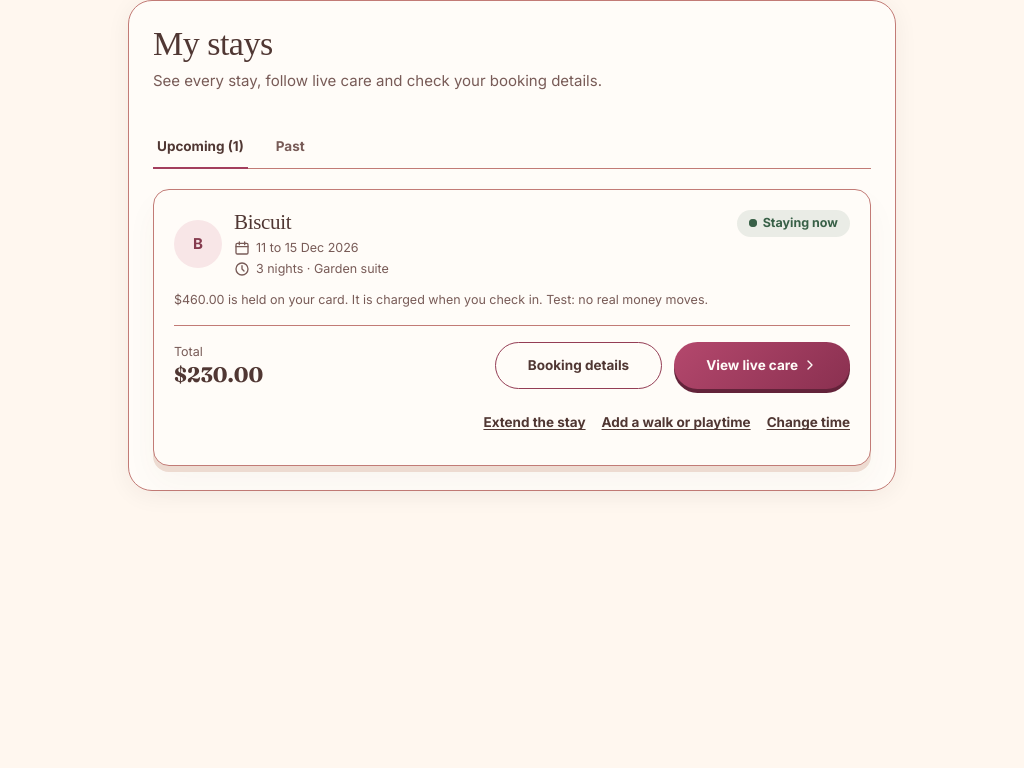
Test case: changes while the pet is staying › loads the add-ons, names the service and total on the button, and books at that price
This screenshot has width=1024, height=768.
Step 1. Click the button "Add a walk or playtime" → [676, 423], box [602, 401, 751, 445]
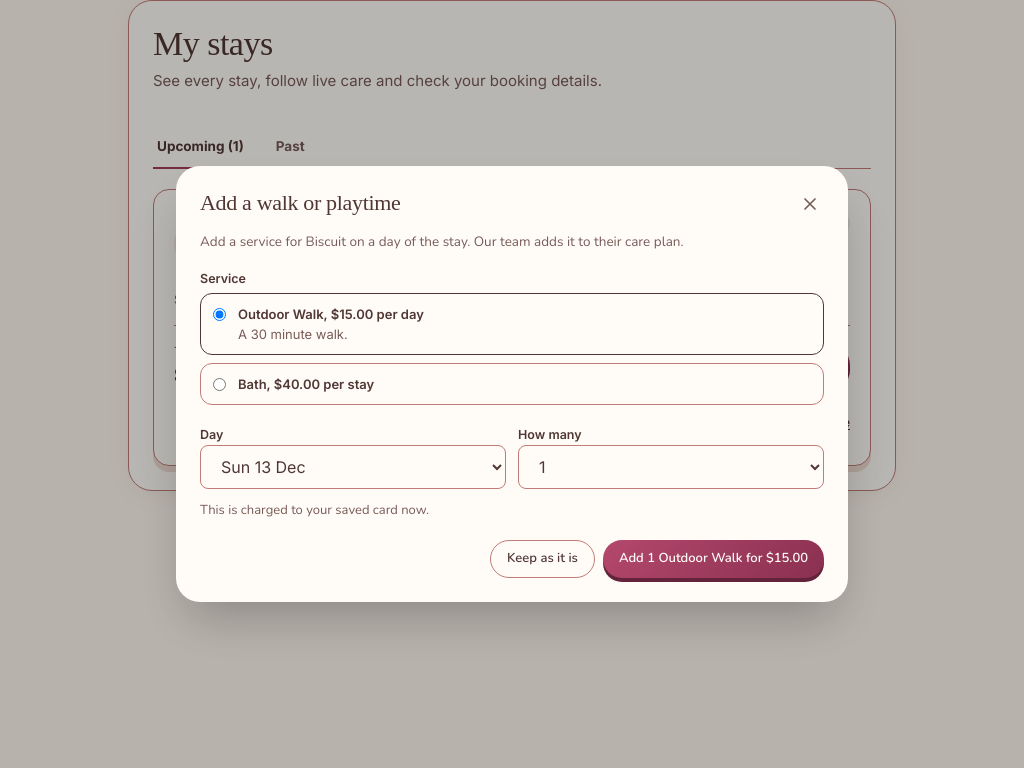
Expected: the radio button labelled "Outdoor Walk, $15.00 per day A 30 minute walk." is checked, [213, 308, 226, 321]
Step 2. Select "Mon 14 Dec" in the dropdown labelled "Day" → [353, 467], box [200, 445, 506, 489]
Step 3. Select "2" in the dropdown labelled "How many" → [671, 467], box [518, 445, 824, 489]
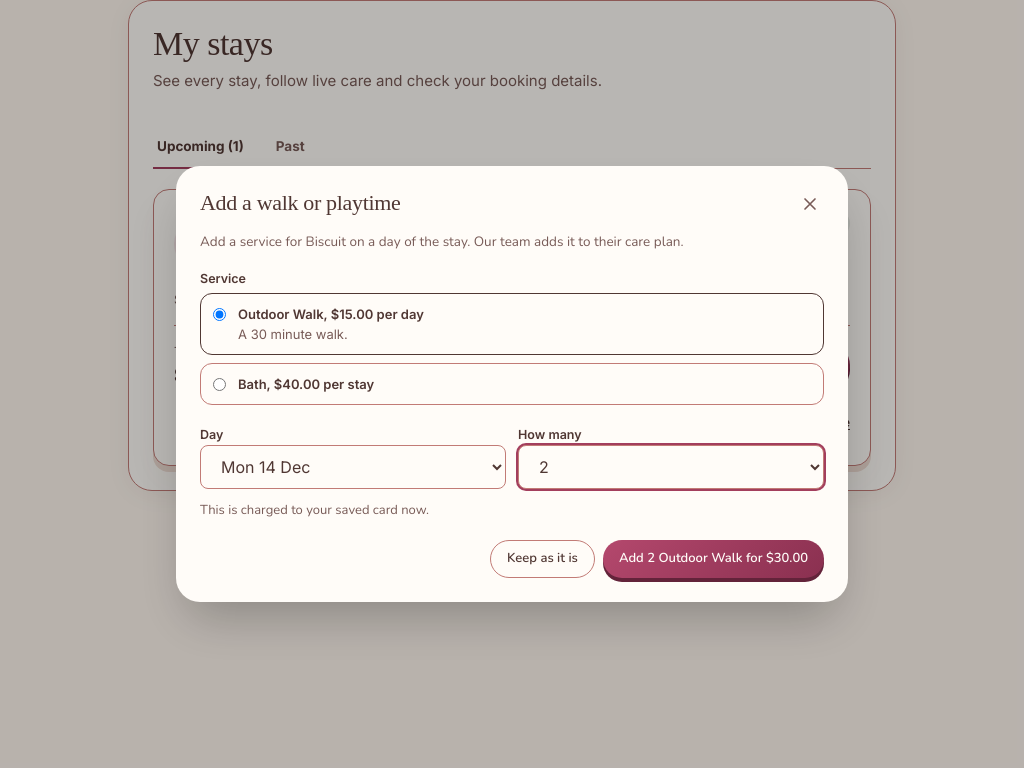
Expected: the dialog "Add a walk or playtime" shows "This is charged to your saved card now.", [200, 501, 429, 519]
A service priced for the stay is not counted.
Step 4. Click the radio button labelled "Bath, $40.00 per stay" → [220, 384], box [213, 378, 226, 391]
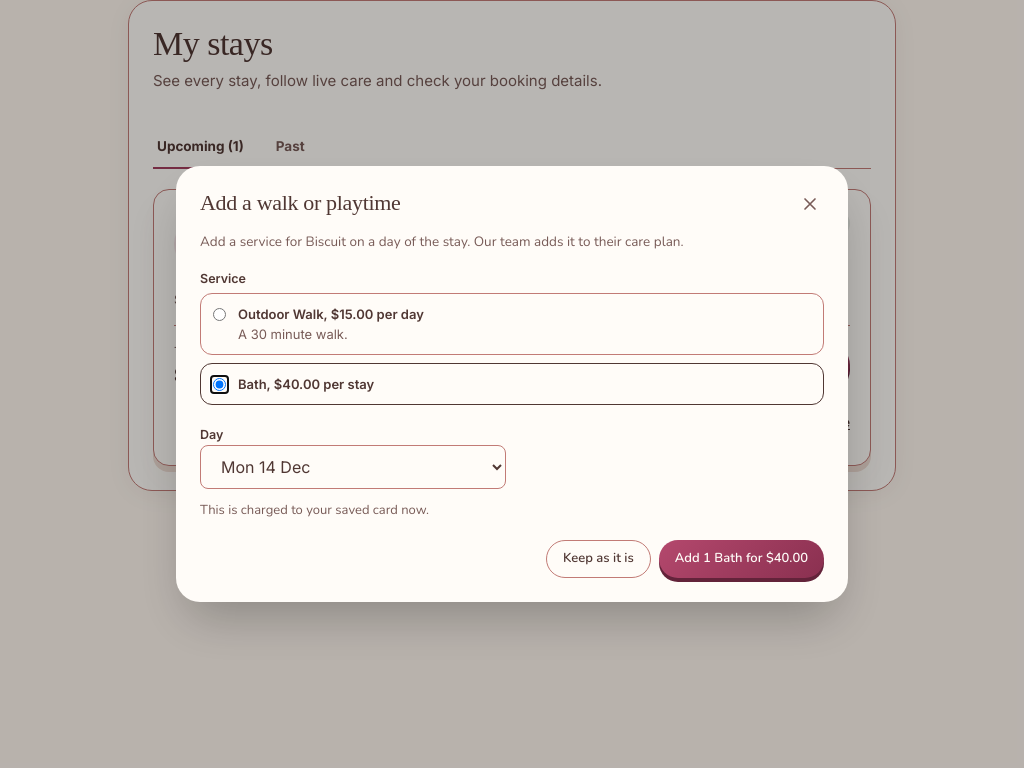
Expected: the button "Add 1 Bath for $40.00" is enabled, [659, 540, 824, 578]
Expected: the label labelled "How many" is gone
Step 5. Click the radio button labelled "Outdoor Walk, $15.00 per day A 30 minute walk." → [220, 314], box [213, 308, 226, 321]
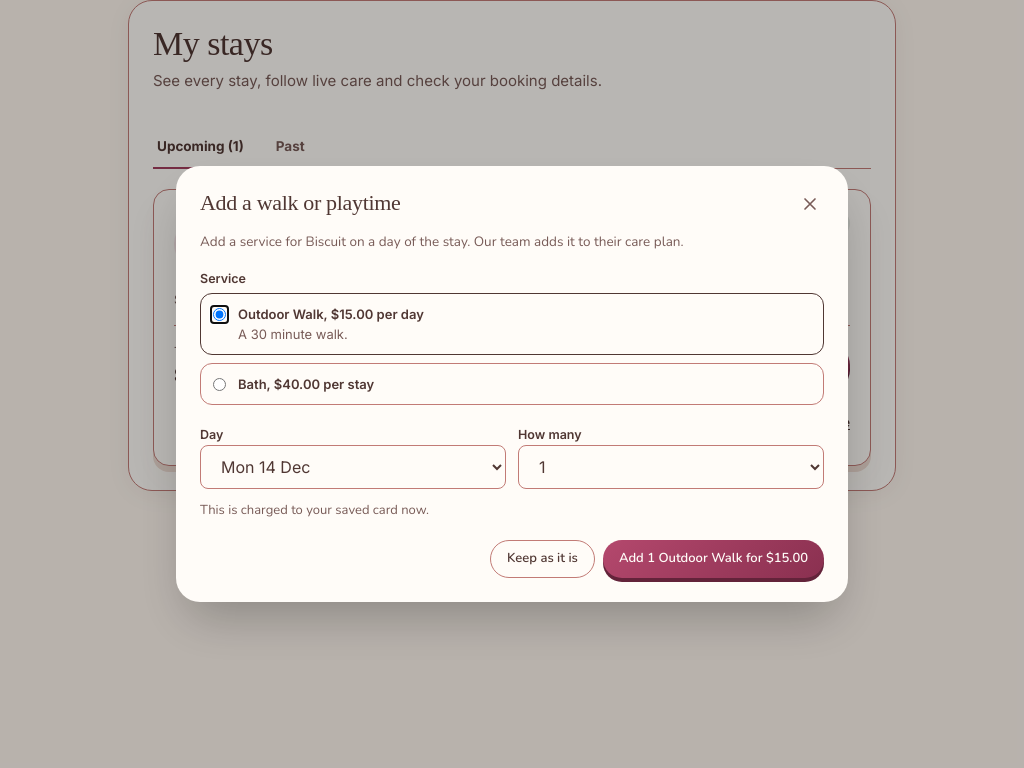
Expected: the dialog "Add a walk or playtime" shows "A 30 minute walk.", [238, 326, 348, 342]
Step 6. Select "2" in the dropdown labelled "How many" → [671, 467], box [518, 445, 824, 489]
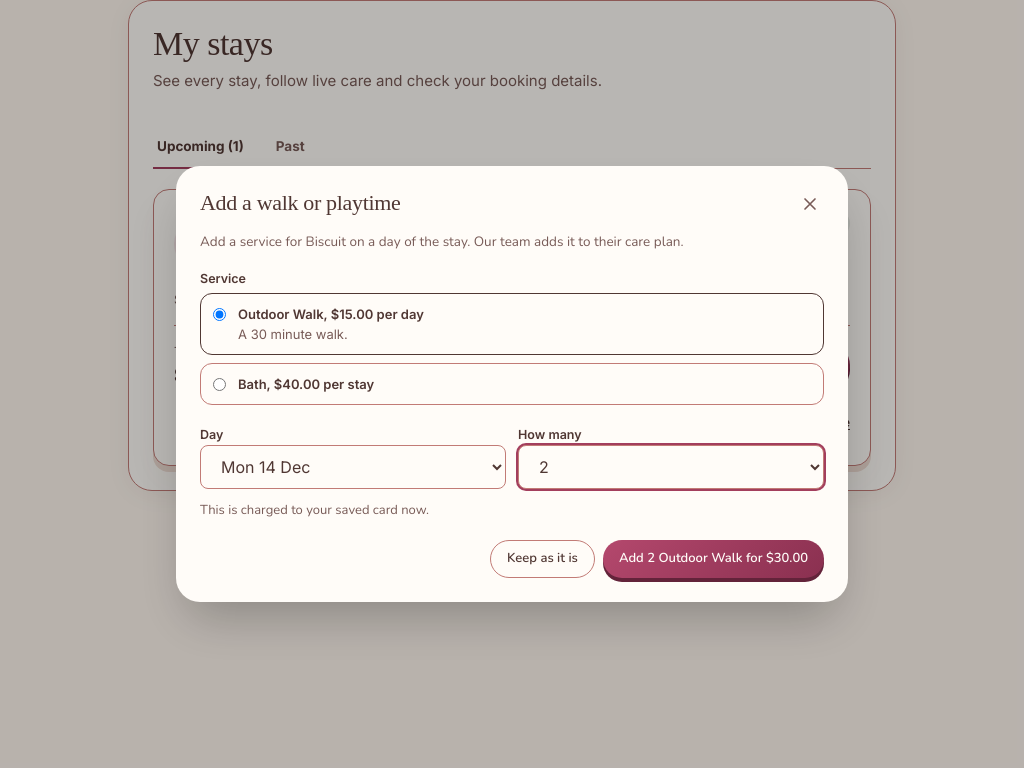
Step 7. Click the button named "Add 1 Bath for $40.00" → [713, 559], box [603, 540, 824, 578]
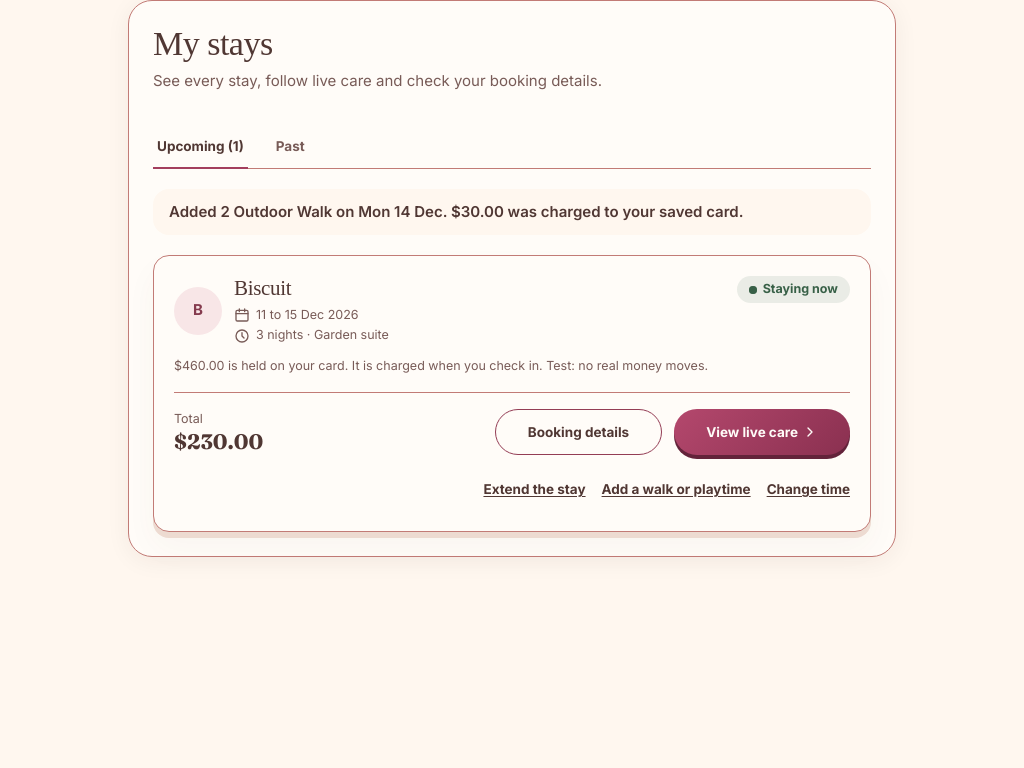
Expected: the message reads "Added 2 Outdoor Walk on Mon 14 Dec. $30.00 was charged to your saved card.", [169, 202, 744, 221]
